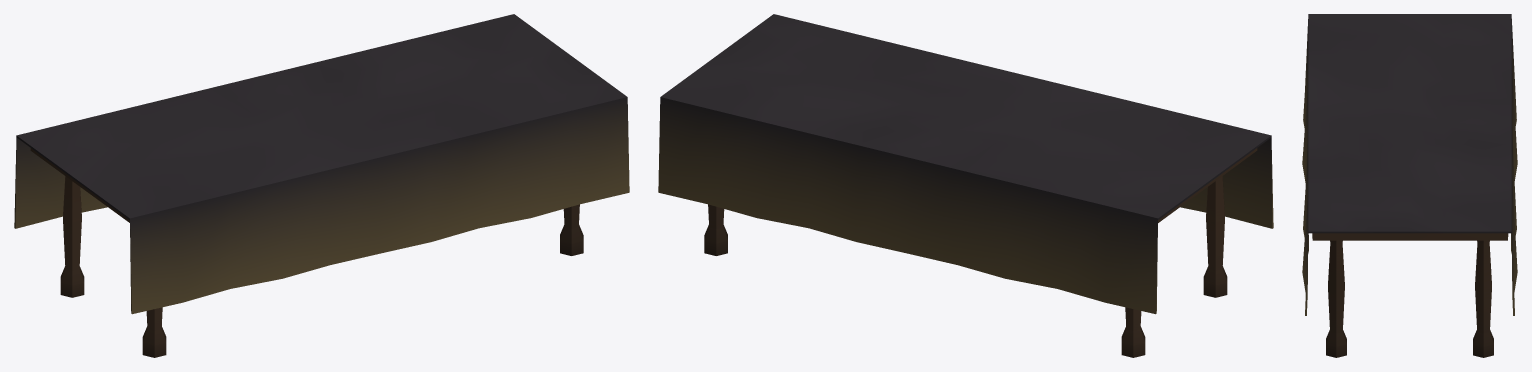
The model's file is ph_int_catafalque.glb.
3 renders of one model, left to right at view 1: azimuth 30°, elevation 25°; view 2: azimuth 150°, elevation 25°; view 3: azimuth 270°, elevation 25°, orthographic. The views are drawn at different scales.
Visible parts, largest first — view 1: ph_int_catafalque; view 2: ph_int_catafalque; view 3: ph_int_catafalque.
Boxes of the visible parts, x1,y1,x2,y2 form: ph_int_catafalque: (14,14,629,357); ph_int_catafalque: (658,14,1273,357); ph_int_catafalque: (1302,14,1517,357).
Bounding box in the file's own units: 2.1 × 0.625 × 0.8788.
